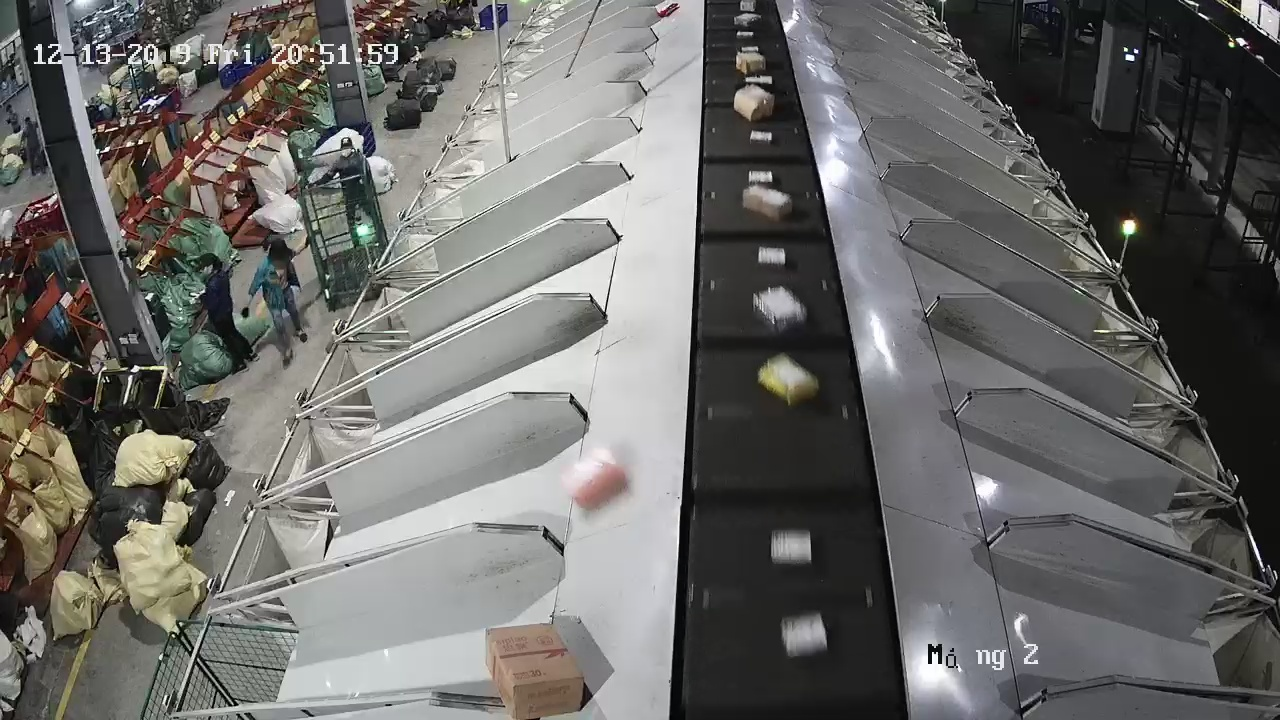parcel: (559, 444, 627, 513)
